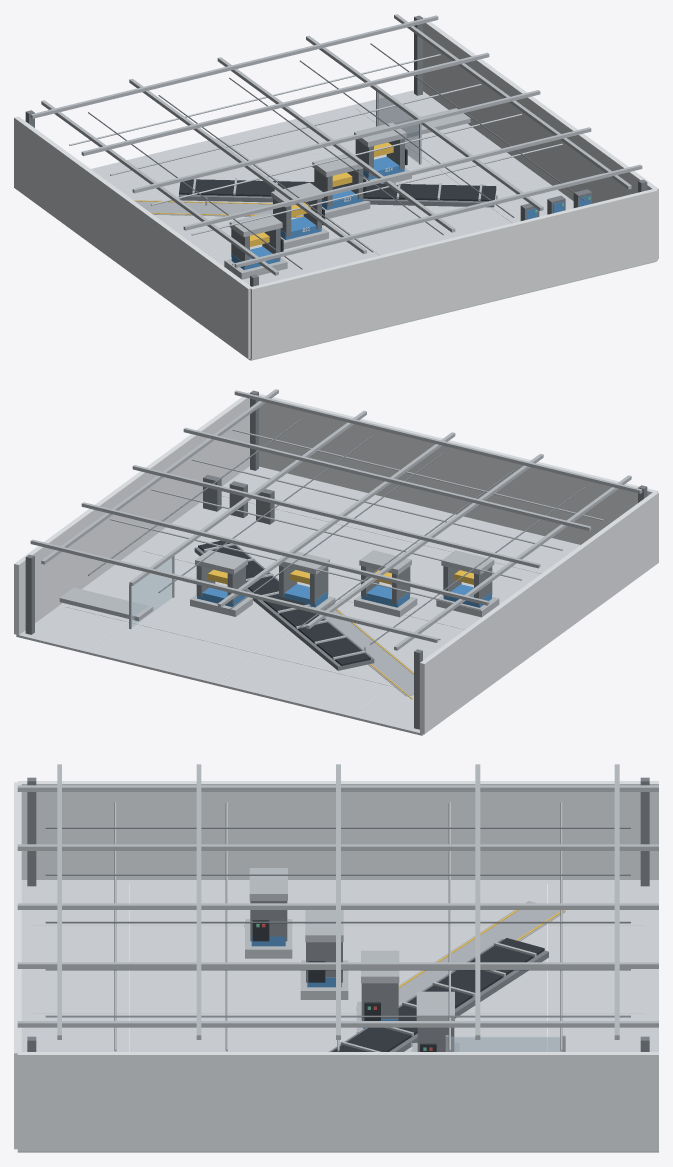
The model's file is workshop.glb.
The picture shows the model from 3 angles, top to bottom: view 1: azimuth 30°, elevation 25°; view 2: azimuth 150°, elevation 25°; view 3: azimuth 270°, elevation 25°; orthographic projection. The views are drawn at different scales.
Parts seen in each view (by area): view 1: Back_Wall, Floor_Slab, Left_Wall, Right_Wall, Main_Conveyor_Belt, Roof_Beam_Y_20, Roof_Beam_Y_-10, Roof_Beam_Y_10, Roof_Beam_Y_-20, Roof_Beam_Y_0, Roof_Beam_X_0, Roof_Beam_X_20 (+18 smaller); view 2: Floor_Slab, Back_Wall, Left_Wall, Right_Wall, Main_Conveyor_Belt, Roof_Beam_Y_-20, Roof_Beam_Y_-10, Roof_Beam_Y_10, Roof_Beam_Y_20, Roof_Beam_Y_0, Safety_Walkway, Roof_Beam_X_0 (+25 smaller); view 3: Floor_Slab, Right_Wall, Left_Wall, Roof_Beam_X_-20, Roof_Beam_X_-10, Roof_Beam_X_0, Roof_Beam_X_10, Roof_Beam_X_20, Main_Conveyor_Belt, Safety_Walkway, Back_Wall, Glass_Partition (+27 smaller).
Boxes of the visible parts, box(x1,y1,x2,y2) form: Back_Wall: box(249, 189, 657, 359); Floor_Slab: box(91, 90, 656, 360); Left_Wall: box(14, 116, 251, 359); Right_Wall: box(423, 17, 658, 259); Main_Conveyor_Belt: box(179, 179, 495, 201); Roof_Beam_Y_20: box(30, 15, 438, 118); Roof_Beam_Y_-10: box(183, 127, 591, 230); Roof_Beam_Y_10: box(81, 52, 489, 155); Roof_Beam_Y_-20: box(234, 164, 642, 267); Roof_Beam_Y_0: box(132, 90, 540, 193); Roof_Beam_X_0: box(217, 57, 455, 232); Roof_Beam_X_20: box(394, 14, 631, 189); Floor_Slab: box(16, 466, 580, 735); Back_Wall: box(259, 393, 657, 544); Left_Wall: box(420, 491, 658, 734); Right_Wall: box(14, 392, 249, 634); Main_Conveyor_Belt: box(198, 540, 370, 665); Roof_Beam_Y_-20: box(234, 390, 642, 493); Roof_Beam_Y_-10: box(183, 427, 591, 530); Roof_Beam_Y_10: box(81, 502, 489, 605); Roof_Beam_Y_20: box(30, 539, 438, 642); Roof_Beam_Y_0: box(132, 465, 540, 568); Safety_Walkway: box(325, 608, 413, 696); Roof_Beam_X_0: box(217, 432, 455, 607); Floor_Slab: box(17, 880, 658, 1152); Right_Wall: box(17, 1052, 658, 1150); Left_Wall: box(17, 781, 658, 879); Roof_Beam_X_-20: box(17, 785, 658, 791); Roof_Beam_X_-10: box(17, 844, 658, 850); Roof_Beam_X_0: box(17, 903, 658, 909); Roof_Beam_X_10: box(17, 962, 658, 968); Roof_Beam_X_20: box(17, 1021, 658, 1027); Main_Conveyor_Belt: box(332, 938, 544, 1051); Safety_Walkway: box(398, 901, 565, 1001); Back_Wall: box(14, 782, 21, 1149); Glass_Partition: box(448, 1036, 562, 1051).
Bounding box in the file's own units: 25.86 × 5.15 × 25.71.
